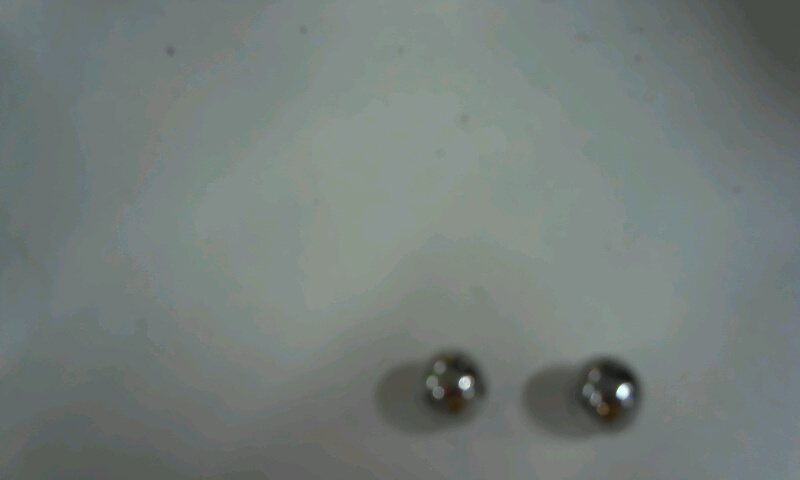steelball: (561, 347, 655, 440), (409, 341, 496, 428)
